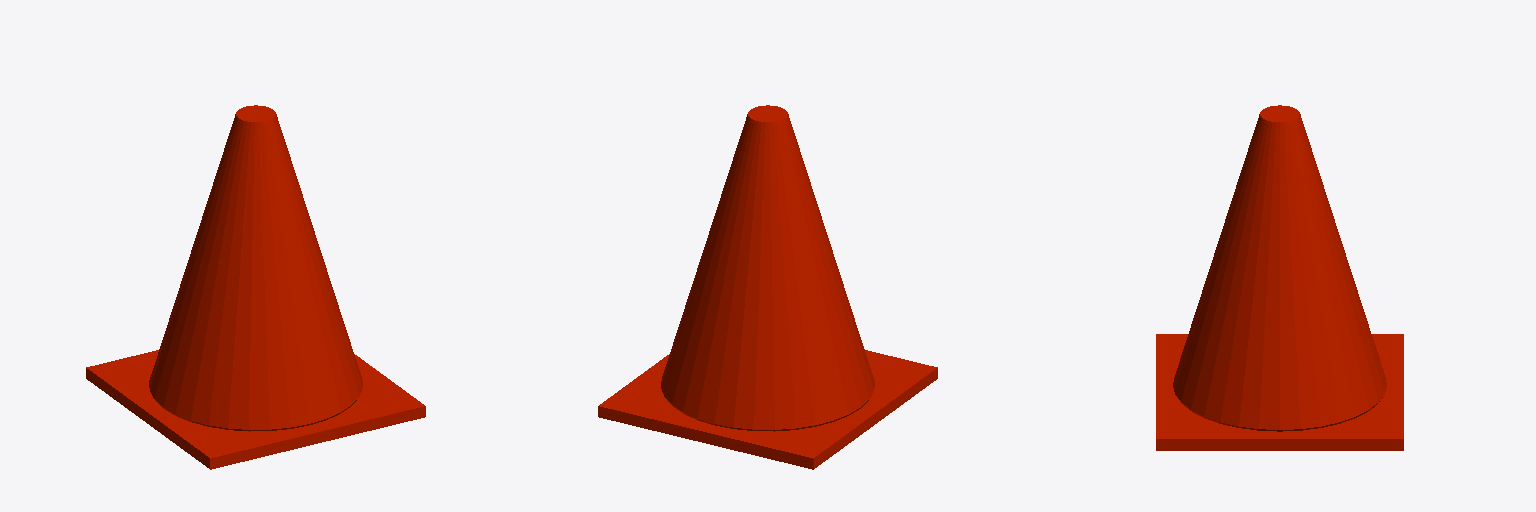
The model's file is trafficcone.obj.
3 views of the same model, side by side, from view 1: azimuth 30°, elevation 25°; view 2: azimuth 150°, elevation 25°; view 3: azimuth 270°, elevation 25° (orthographic).
Parts seen in each view (by area): view 1: Cone; view 2: Cone; view 3: Cone.
Boxes of the visible parts, x1=… form: Cone: x1=86, y1=105, x2=425, y2=469; Cone: x1=598, y1=105, x2=937, y2=469; Cone: x1=1156, y1=105, x2=1403, y2=450.
Bounding box in the file's own units: 0.4 × 0.5043 × 0.4.